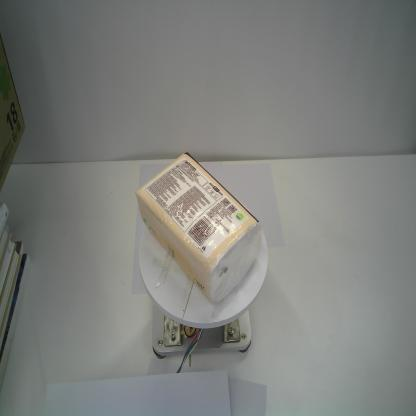Tissue: (134, 152, 262, 302)
